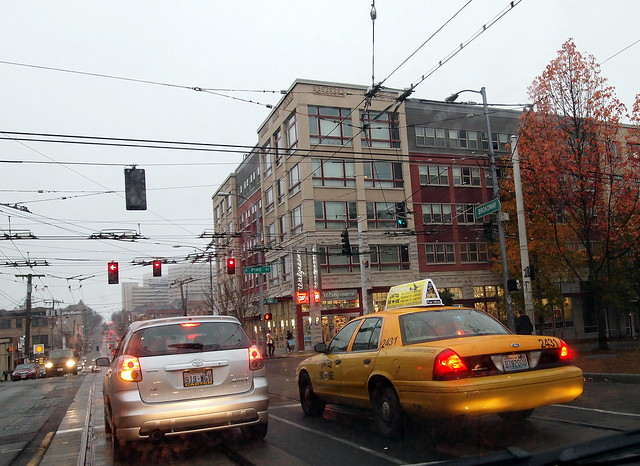car: (296, 306, 585, 440), (96, 316, 269, 459), (46, 348, 77, 377), (12, 362, 38, 382)
